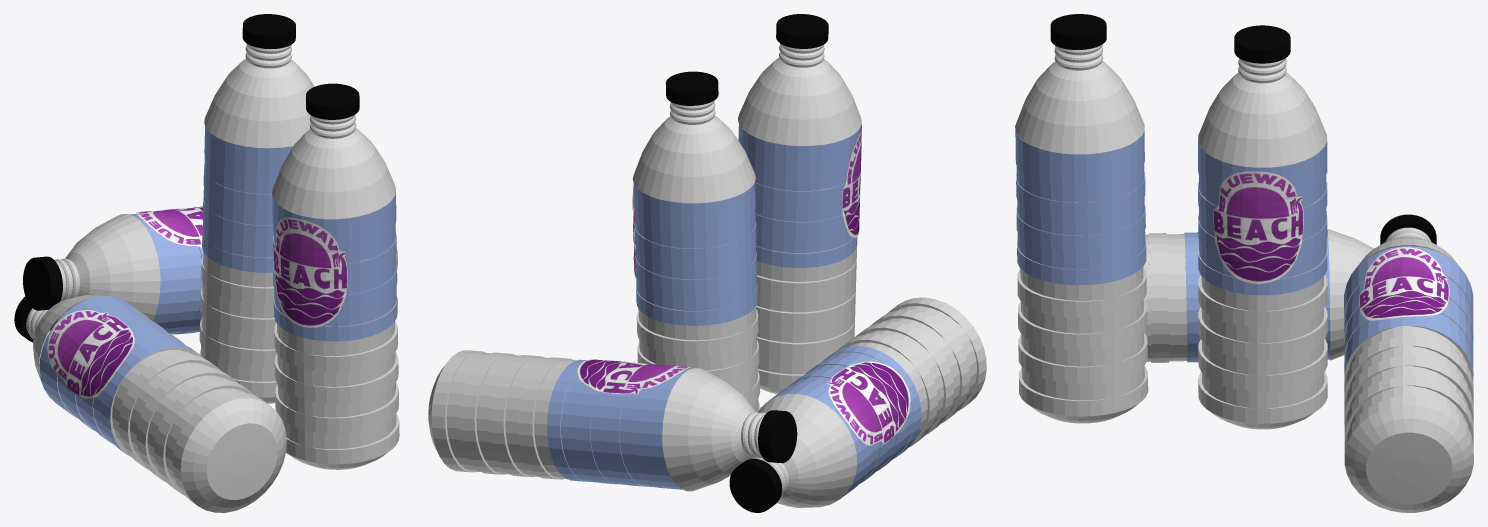
The model's file is RBottle.fbx.
3 renders of one model, left to right at view 1: azimuth 30°, elevation 25°; view 2: azimuth 150°, elevation 25°; view 3: azimuth 270°, elevation 25°, orthographic. The views are drawn at different scales.
Parts seen in each view (by area): view 1: Cylinder.002, Cylinder.005, Cylinder.001, Cylinder.003, IMG_1073.002, IMG_1073.001, IMG_1073.003; view 2: Cylinder.003, Cylinder.002, Cylinder.005, Cylinder.001, IMG_1073.001, IMG_1073.003, IMG_1073.002; view 3: Cylinder.002, Cylinder.005, Cylinder.003, Cylinder.001, IMG_1073.004, IMG_1073.003.
Boxes of the visible parts, bbox=[...] form: Cylinder.002: bbox=[272, 83, 399, 469]; Cylinder.005: bbox=[199, 14, 314, 403]; Cylinder.001: bbox=[14, 295, 286, 512]; Cylinder.003: bbox=[23, 214, 397, 334]; IMG_1073.002: bbox=[273, 217, 347, 327]; IMG_1073.001: bbox=[47, 310, 134, 398]; IMG_1073.003: bbox=[136, 206, 202, 248]; Cylinder.003: bbox=[428, 350, 797, 491]; Cylinder.002: bbox=[738, 14, 861, 394]; Cylinder.005: bbox=[632, 71, 760, 411]; Cylinder.001: bbox=[729, 297, 986, 512]; IMG_1073.001: bbox=[826, 361, 910, 445]; IMG_1073.003: bbox=[577, 359, 690, 394]; IMG_1073.002: bbox=[842, 124, 861, 237]; Cylinder.002: bbox=[1015, 14, 1148, 423]; Cylinder.005: bbox=[1198, 25, 1327, 429]; Cylinder.003: bbox=[1344, 214, 1473, 512]; Cylinder.001: bbox=[1143, 229, 1373, 362]; IMG_1073.004: bbox=[1213, 171, 1303, 283]; IMG_1073.003: bbox=[1359, 247, 1449, 320].
Bounding box in the file's own units: 452 × 428 × 449.
